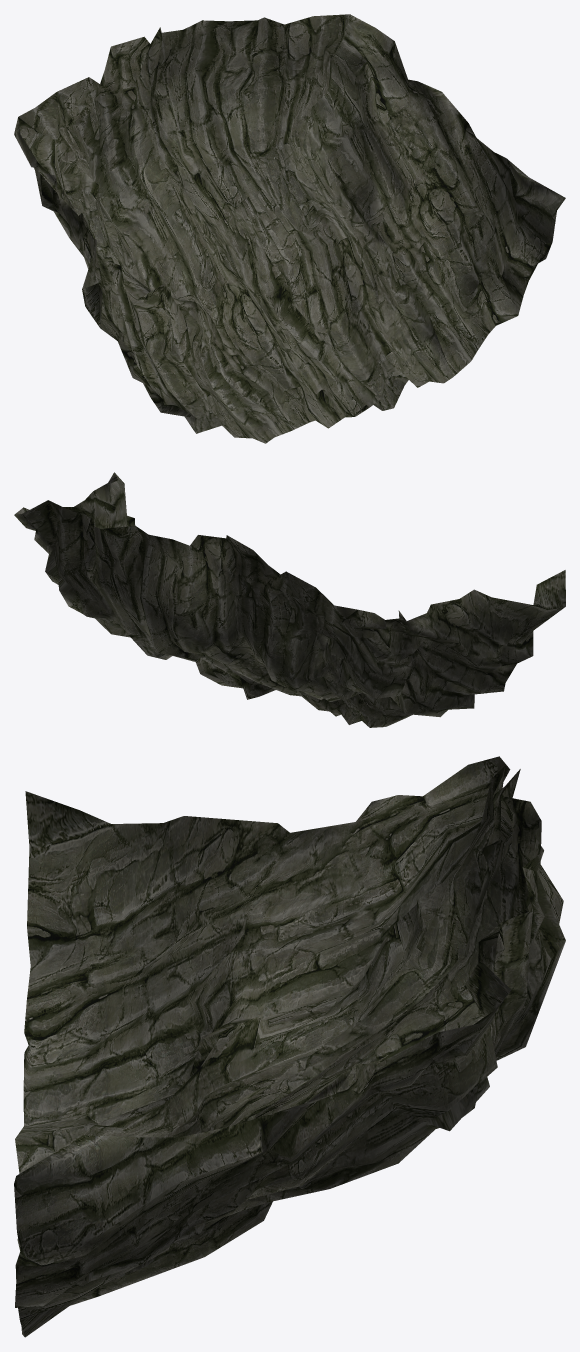
File: TI_Cliff_02_h.fbx
3 views of the same model, one above another, from view 1: azimuth 30°, elevation 25°; view 2: azimuth 150°, elevation 25°; view 3: azimuth 270°, elevation 25° (orthographic). The views are drawn at different scales.
Parts seen in each view (by area): view 1: TI_Cliff_02_h; view 2: TI_Cliff_02_h; view 3: TI_Cliff_02_h.
Boxes of the visible parts, x1,y1,x2,y2 form: TI_Cliff_02_h: (14, 14, 565, 443); TI_Cliff_02_h: (14, 472, 565, 727); TI_Cliff_02_h: (14, 756, 565, 1337).
Bounding box in the file's own units: 34.23 × 20.51 × 22.1.
